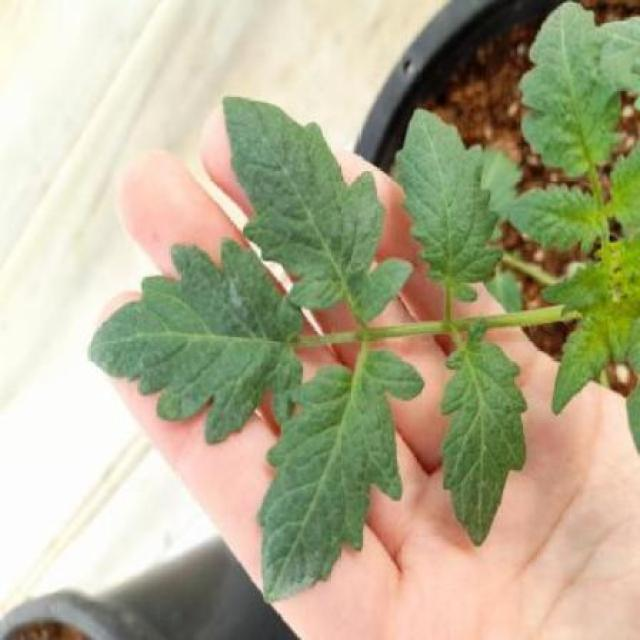Healthy: (88, 236, 303, 444), (221, 97, 413, 319), (258, 349, 423, 604), (395, 108, 502, 302), (442, 317, 527, 544)
